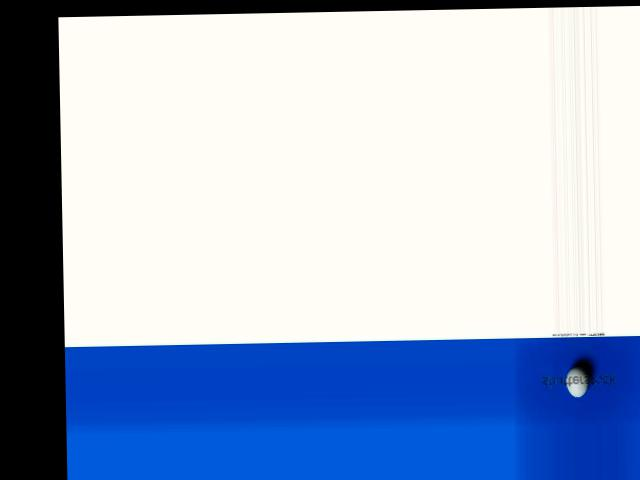egg: (566, 366, 589, 398)
